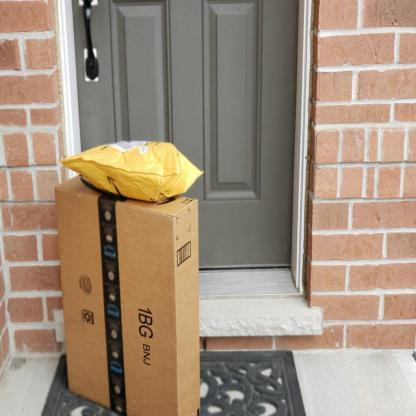package: (54, 171, 201, 416)
